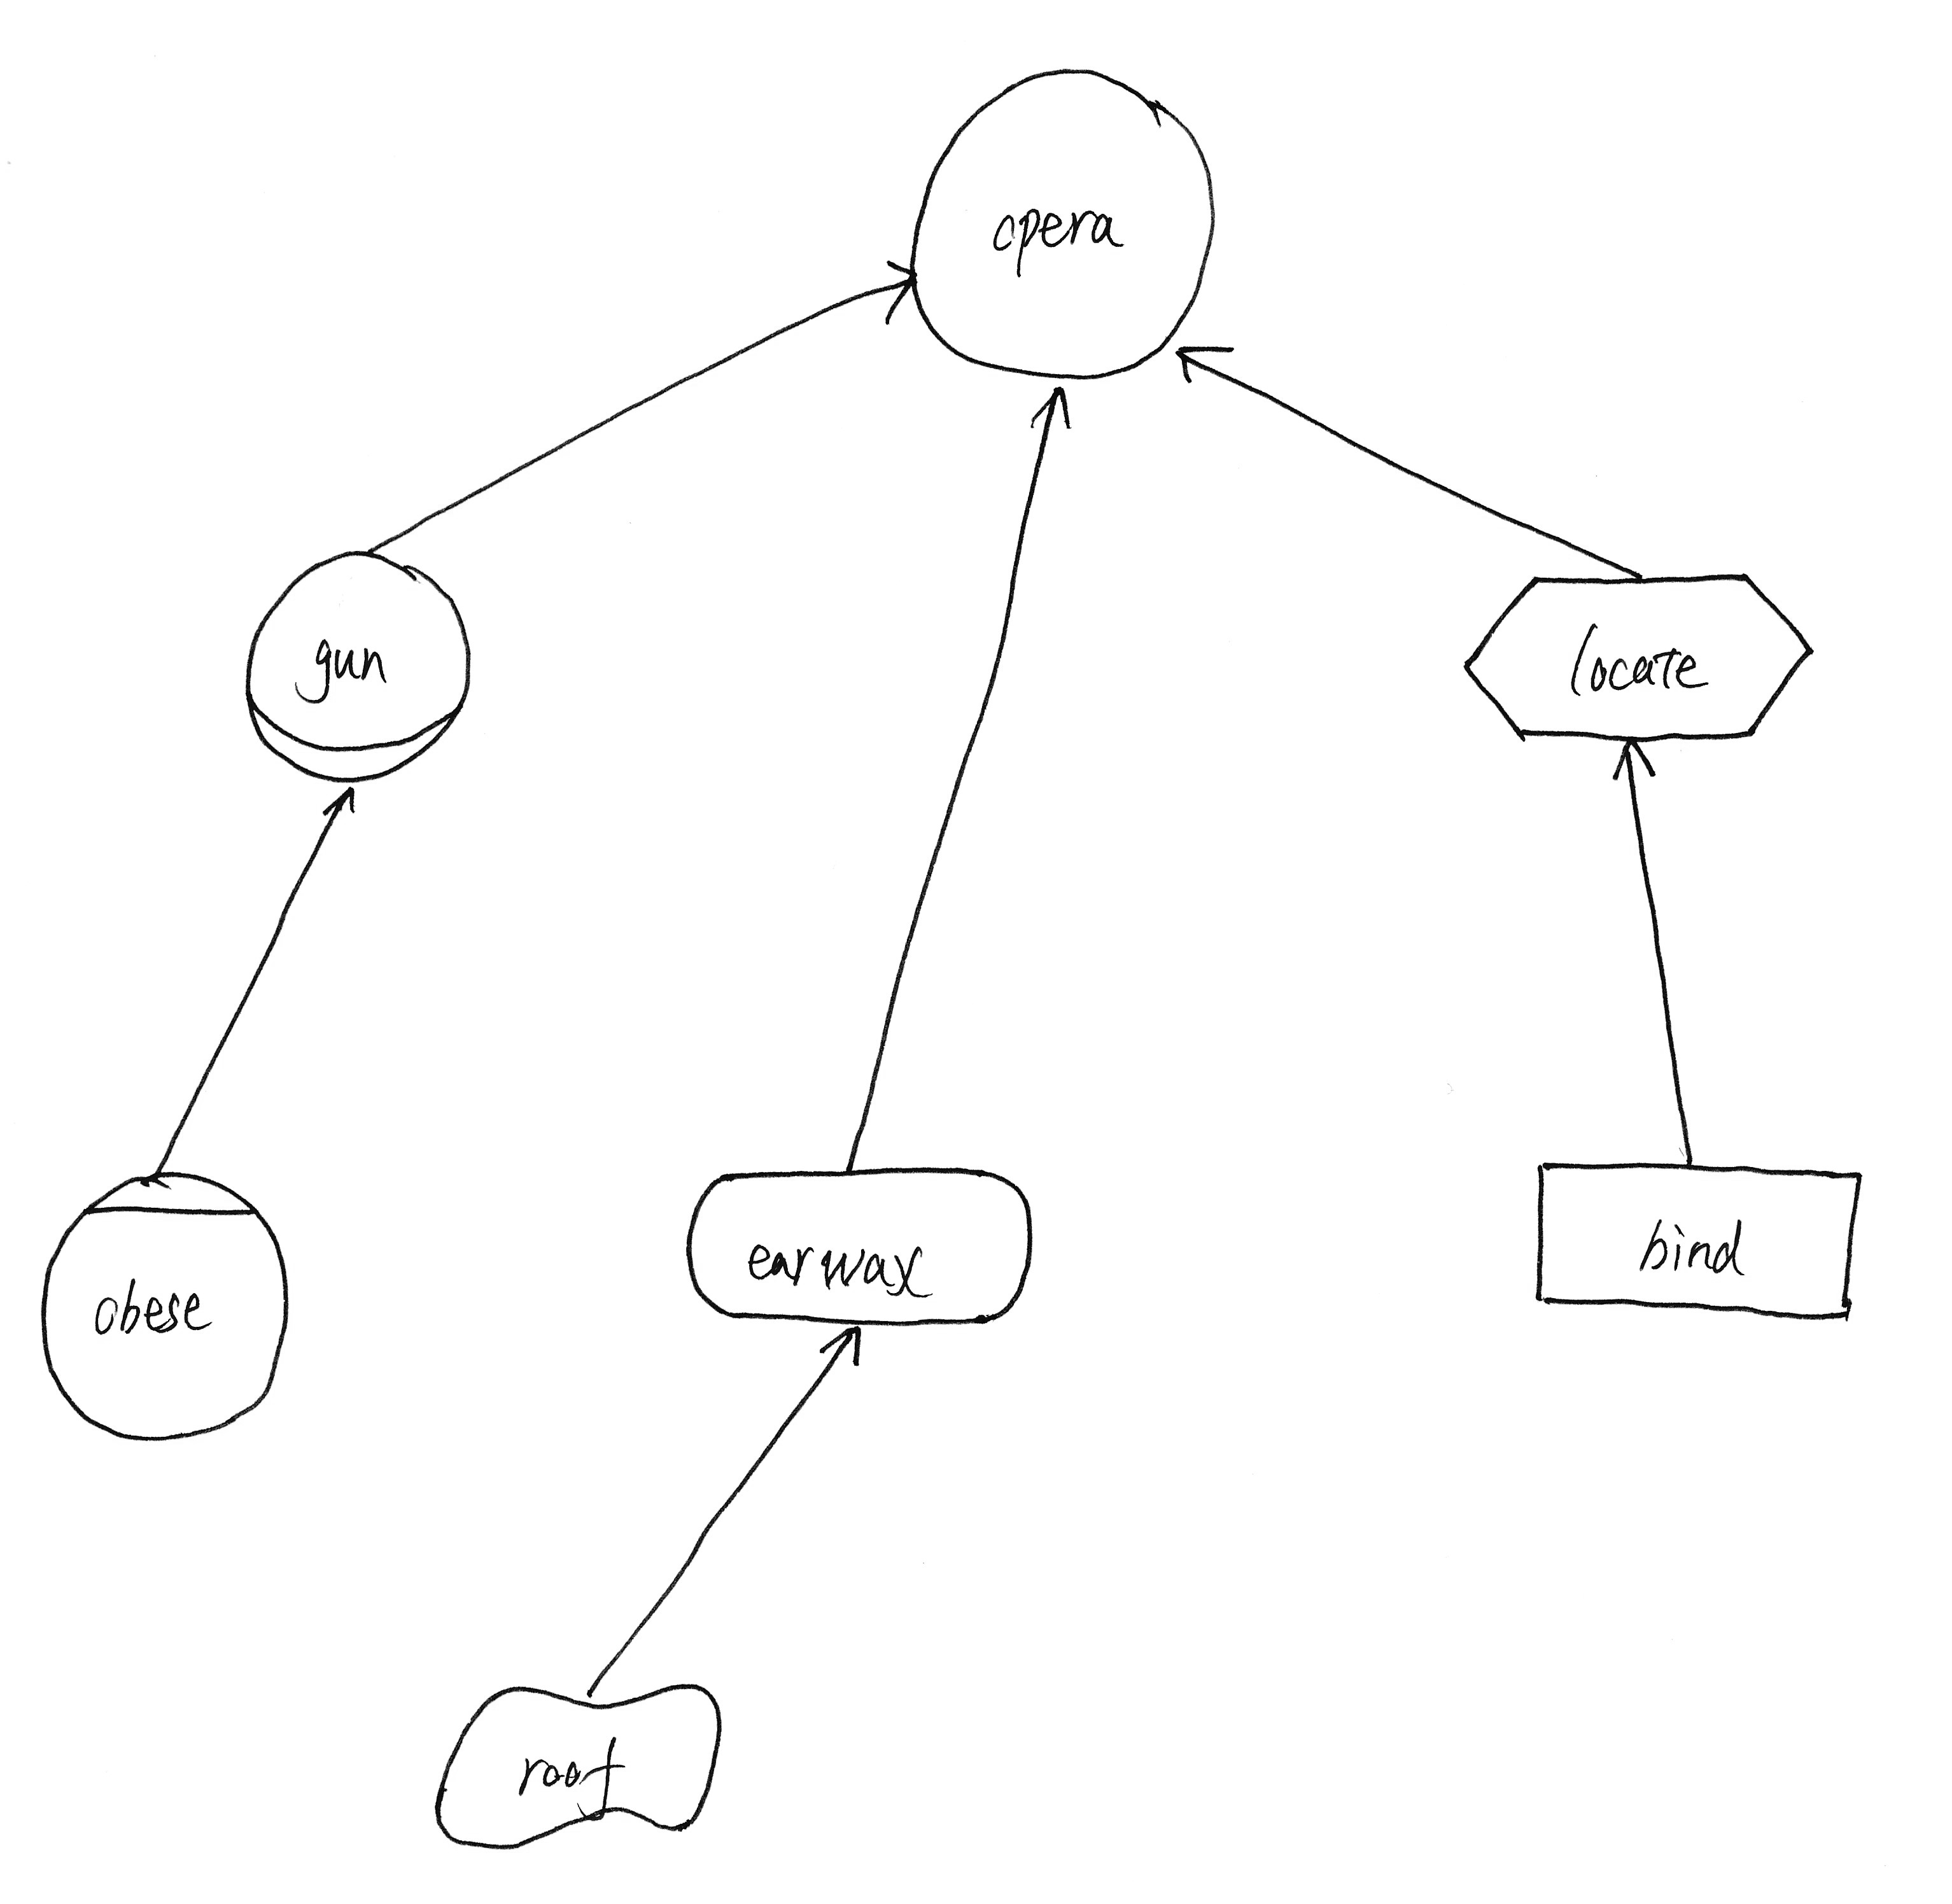actor: (888, 54, 1225, 394)
agent: (21, 1153, 304, 1459)
arrow: (1151, 331, 1247, 401), (1005, 377, 1085, 448), (862, 248, 923, 337), (1593, 734, 1661, 804), (815, 1323, 883, 1391), (305, 778, 373, 828)
goal: (666, 1154, 1061, 1348)
quality: (419, 1672, 769, 1857)
resource: (1521, 1139, 1884, 1355)
role: (225, 534, 485, 799)
task: (1458, 558, 1826, 758)
